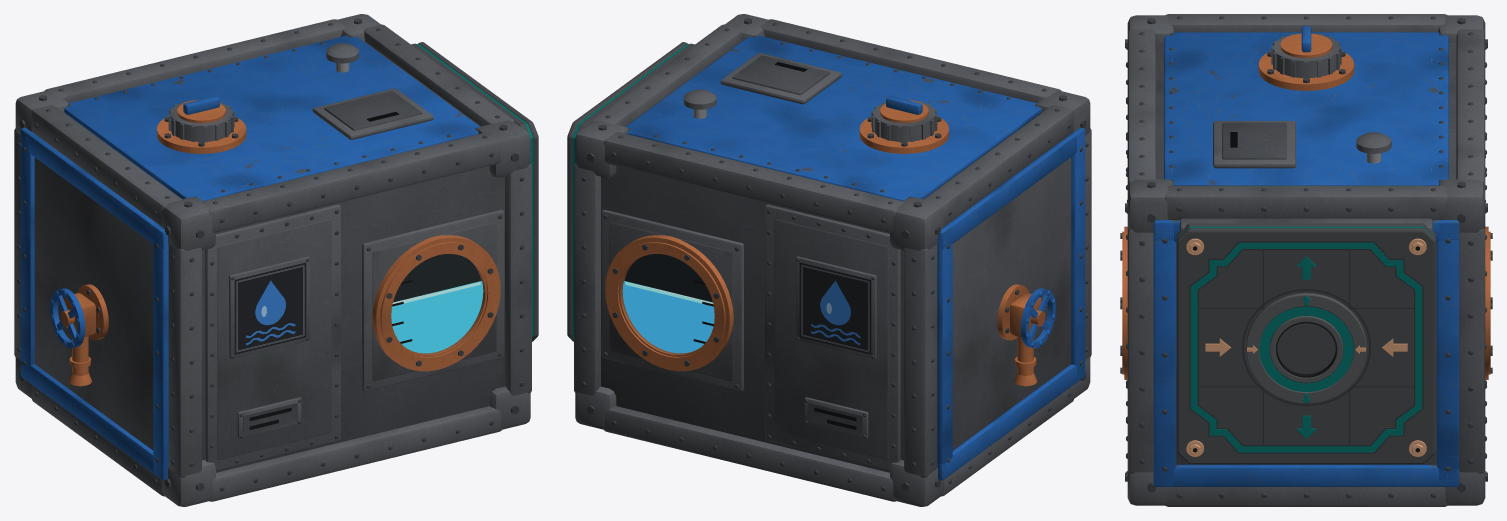
The model's file is water_container.glb.
3 views of the same model, side by side, from view 1: azimuth 30°, elevation 25°; view 2: azimuth 150°, elevation 25°; view 3: azimuth 270°, elevation 25° (orthographic). The views are drawn at different scales.
Parts seen in each view (by area): view 1: Housing.001, Glass.001, Liquid.001, IOPort.001; view 2: Housing.001, Glass.001, Liquid.001, IOPort.001; view 3: Housing.001, IOPort.001.
Part boxes in pixels (x1,y1,x2,y2): Housing.001: [14, 14, 531, 506]; Glass.001: [391, 254, 484, 353]; Liquid.001: [391, 281, 483, 353]; IOPort.001: [411, 42, 538, 341]; Housing.001: [574, 14, 1091, 506]; Glass.001: [621, 254, 714, 353]; Liquid.001: [622, 281, 714, 353]; IOPort.001: [567, 42, 694, 341]; Housing.001: [1120, 14, 1492, 506]; IOPort.001: [1177, 223, 1435, 464].
Size of the model in its own units: 0.997 by 0.735 by 0.718.
Materials: 20 (8 with a texture image).
